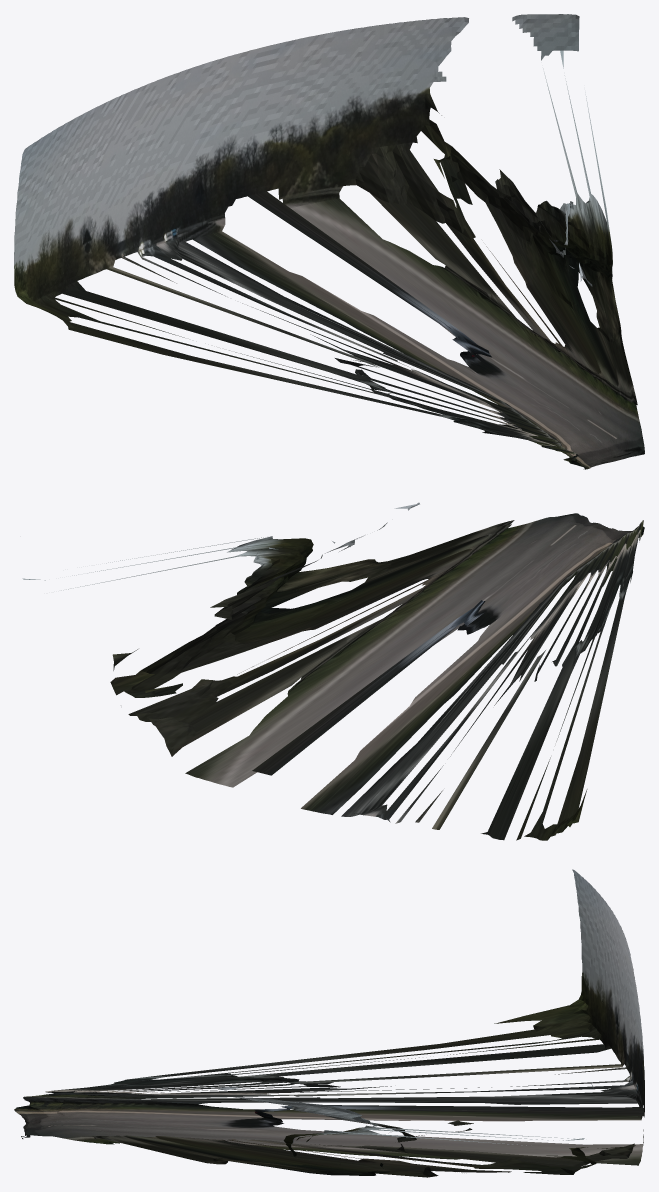
The picture shows the model from 3 angles, top to bottom: view 1: azimuth 30°, elevation 25°; view 2: azimuth 150°, elevation 25°; view 3: azimuth 270°, elevation 25°; orthographic projection. The views are drawn at different scales.
Parts seen in each view (by area): view 1: defaultobject; view 2: defaultobject; view 3: defaultobject.
Part boxes in pixels (x1,y1,x2,y2): defaultobject: [14, 14, 644, 469]; defaultobject: [22, 502, 644, 840]; defaultobject: [14, 869, 644, 1177].
Size of the model in its own units: 41 by 12.78 by 44.91.
Materials: 1 (1 with a texture image).
